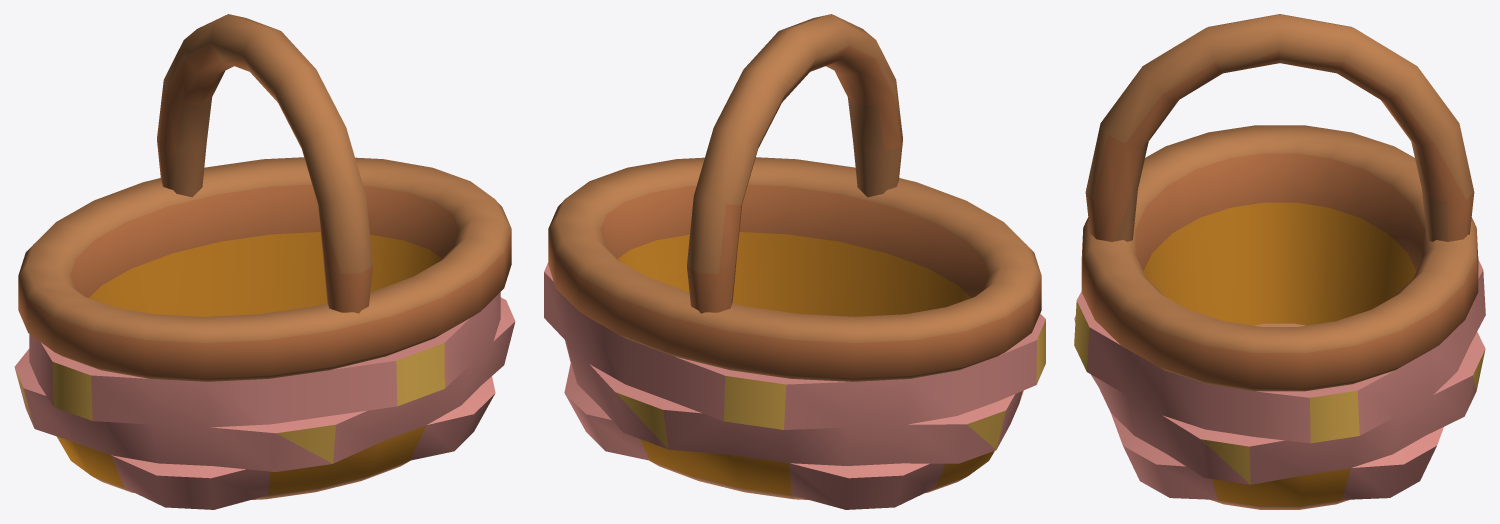
File: itch_tiny_pleasant_picnic_picnic_basket_round.glb
3 renders of one model, left to right at view 1: azimuth 30°, elevation 25°; view 2: azimuth 150°, elevation 25°; view 3: azimuth 270°, elevation 25°, orthographic.
Parts seen in each view (by area): view 1: picnic_basket_round; view 2: picnic_basket_round; view 3: picnic_basket_round.
Boxes of the visible parts, box(x1,y1,x2,y2) form: picnic_basket_round: box(14, 14, 515, 509); picnic_basket_round: box(544, 14, 1045, 509); picnic_basket_round: box(1074, 14, 1485, 509).
Size of the model in its own units: 0.96 by 0.8186 by 0.7446.
